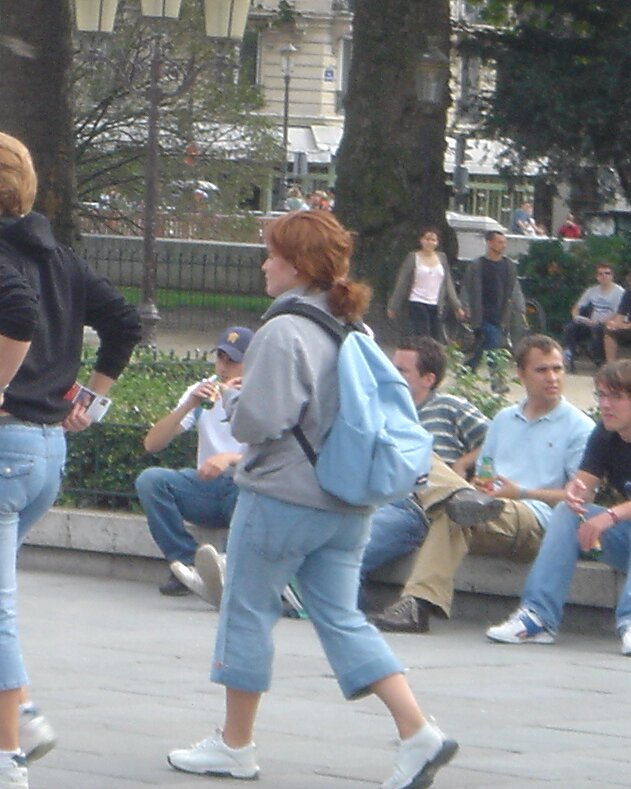person: (213, 203, 462, 789), (1, 126, 113, 786), (480, 330, 586, 527), (565, 359, 631, 642)
